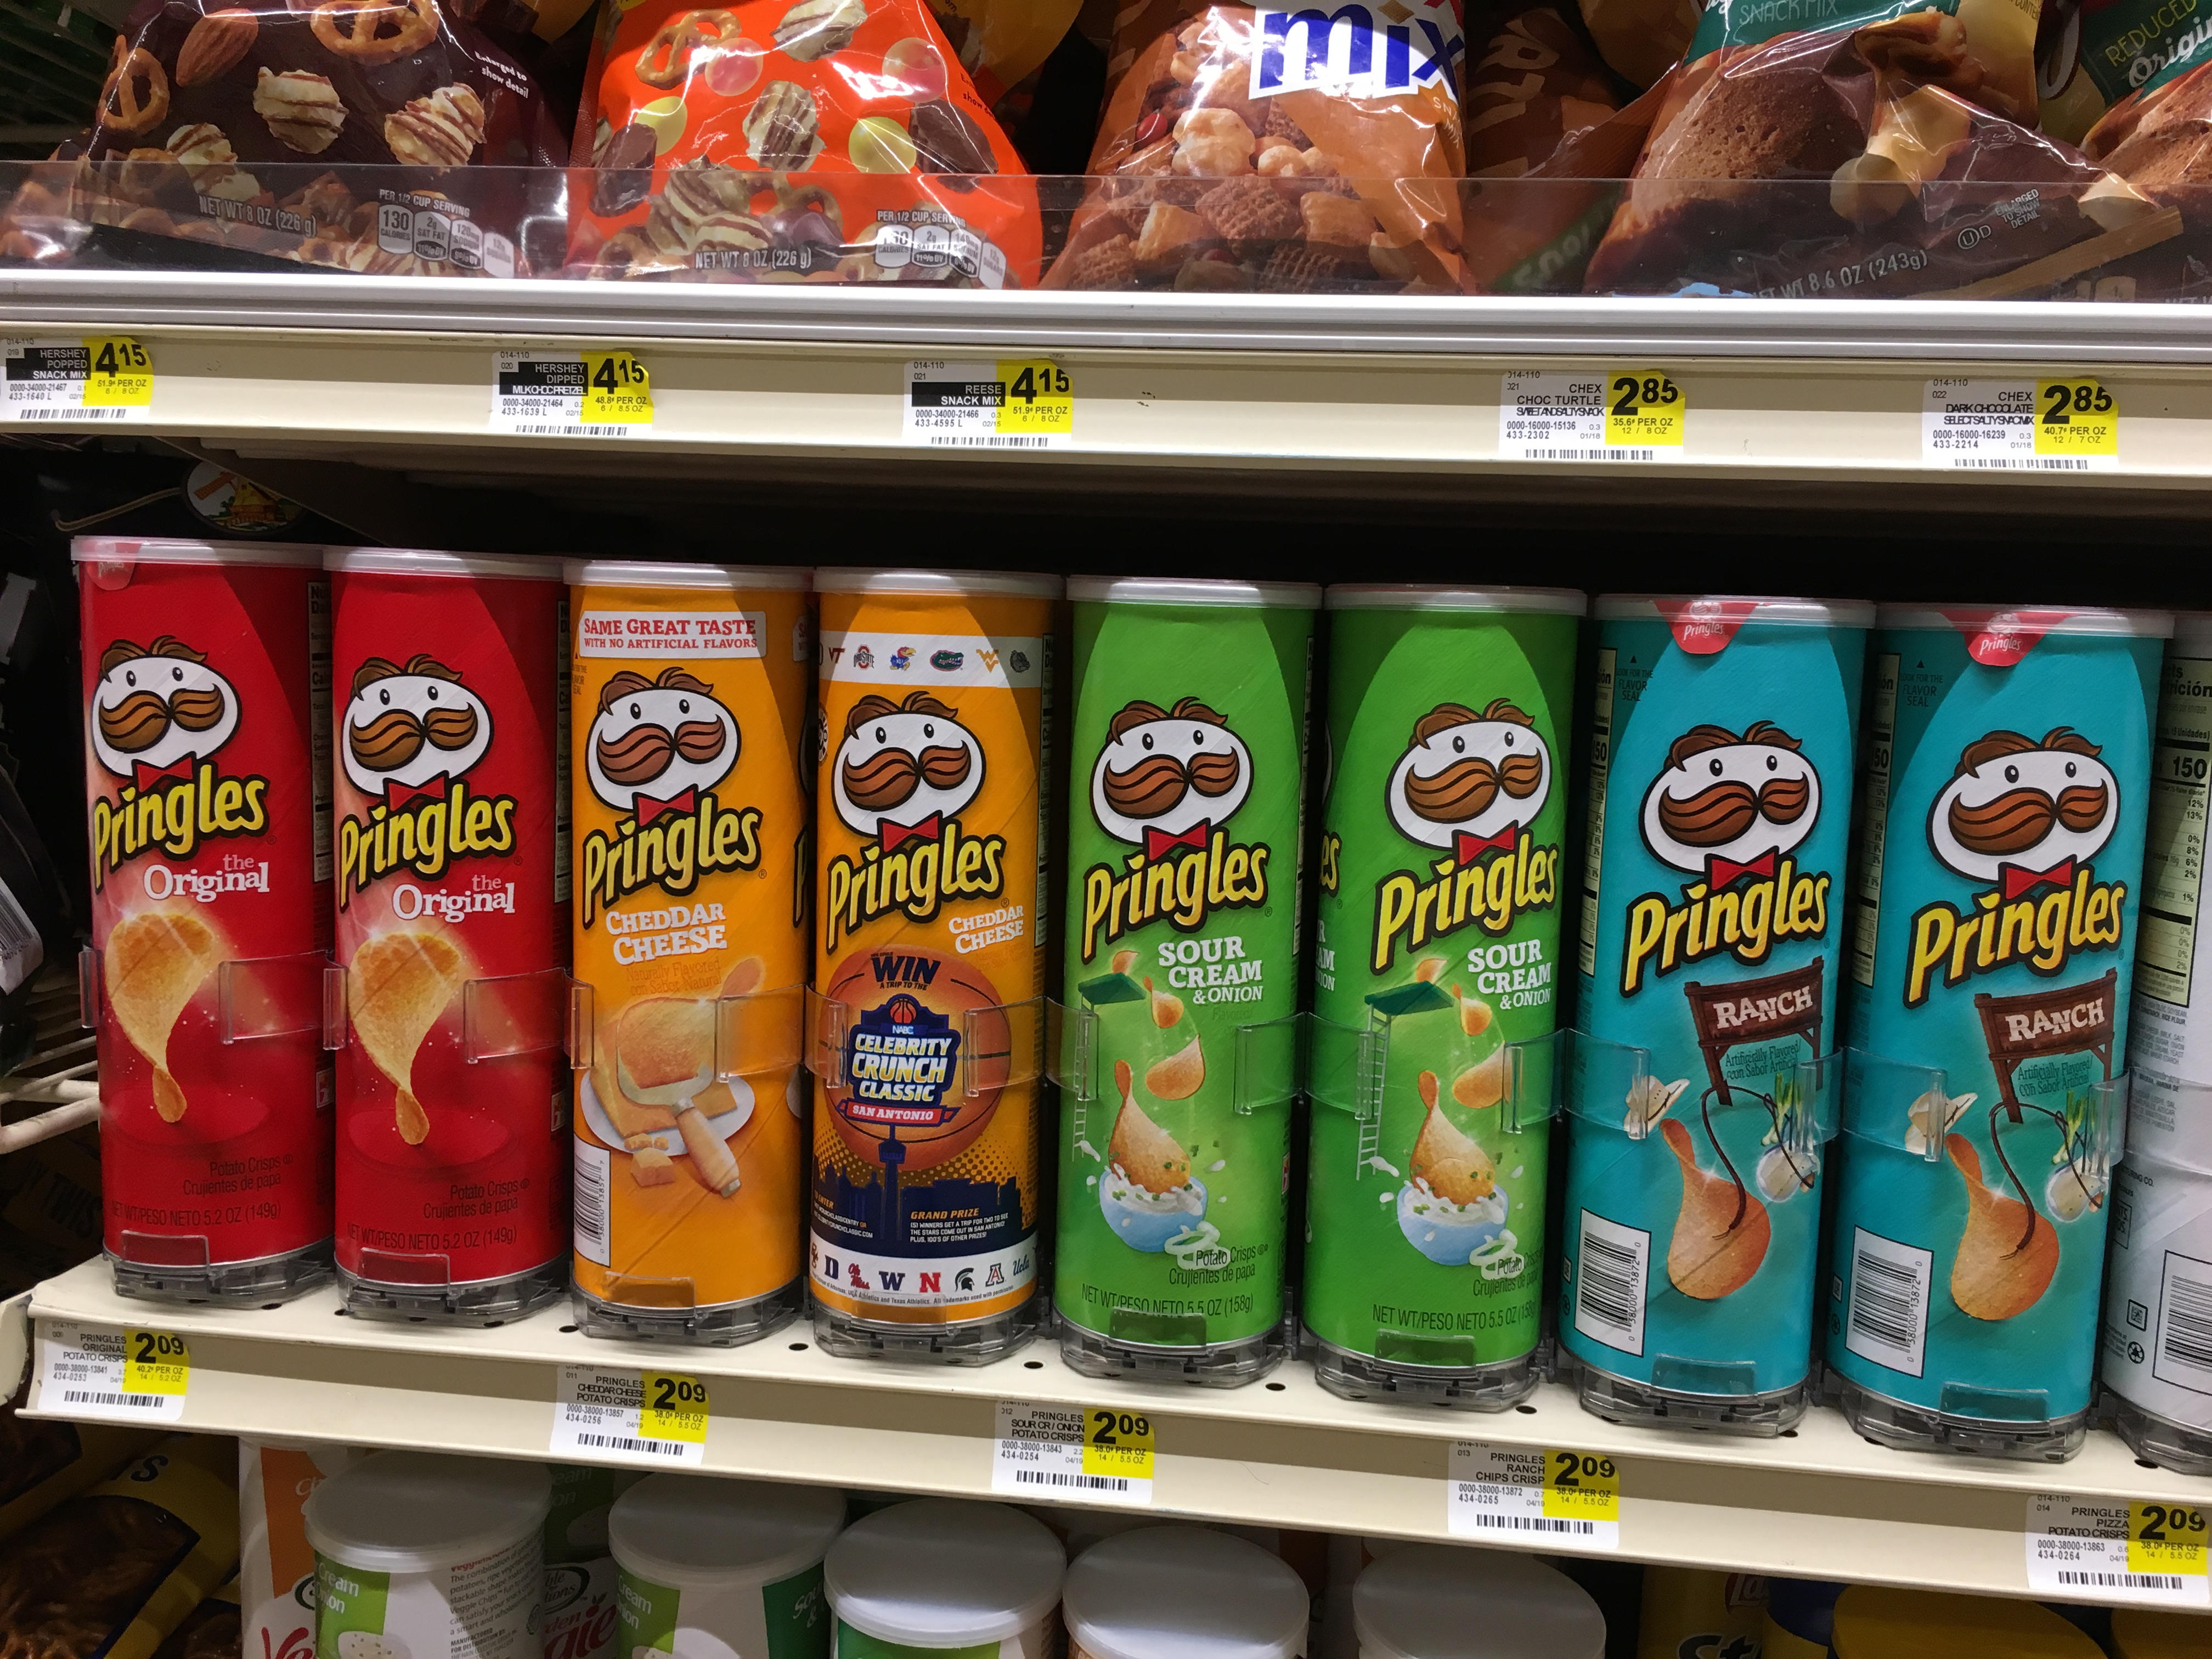chip: (1557, 601, 1898, 1412), (1848, 612, 2174, 1420), (1292, 608, 1599, 1378), (786, 566, 1076, 1347), (1061, 603, 1329, 1380), (52, 538, 317, 1312), (554, 565, 812, 1331), (322, 533, 559, 1305)
